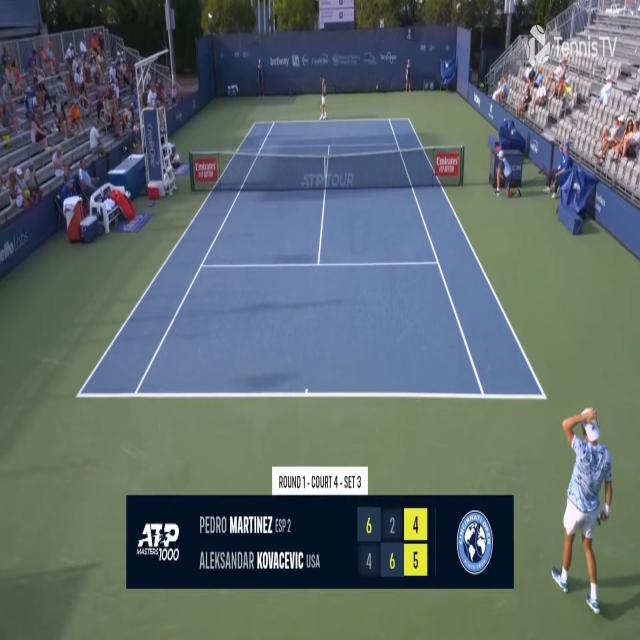tennis-player: (550, 399, 614, 614), (318, 70, 330, 121)
